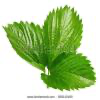Strawberry leaf: (0, 20, 49, 74), (44, 5, 84, 68), (38, 53, 99, 92)
